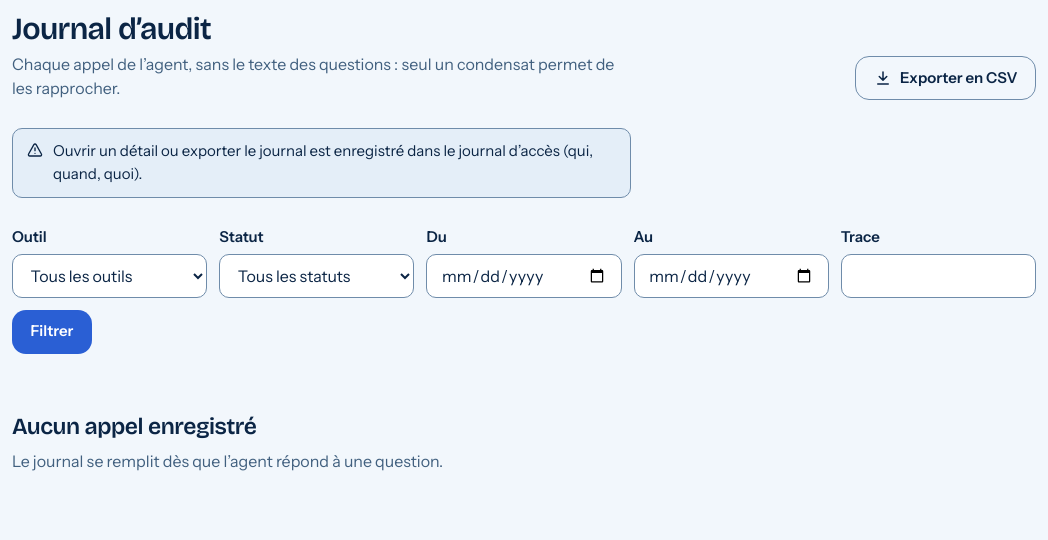
Journal d’audit › envoie les filtres choisis
The image size is (1048, 540).
Select "Bloqué" in the dropdown labelled "Statut": (317, 276) 219,254 -> 414,298
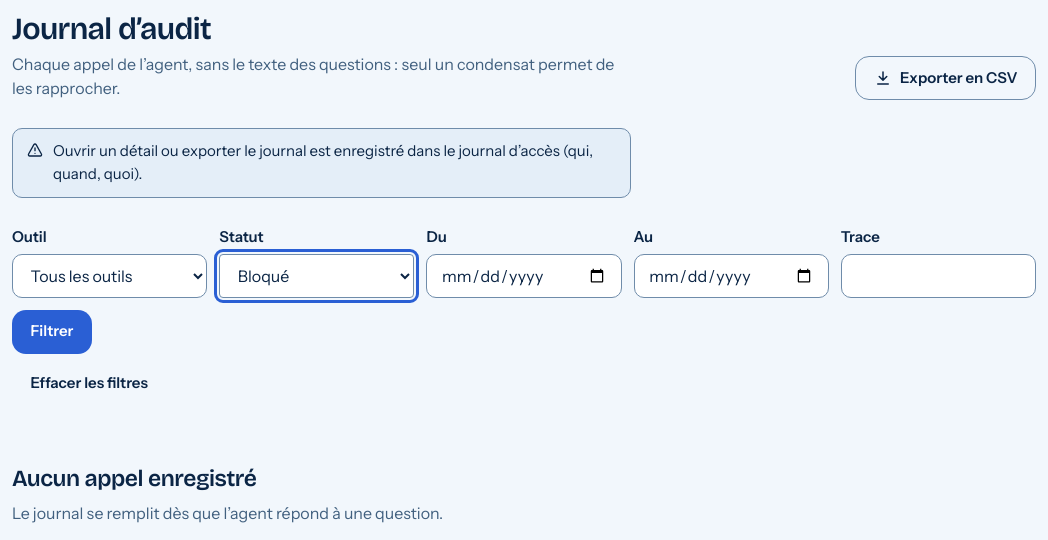
Click the button "Filtrer": (52, 332) 12,310 -> 92,354
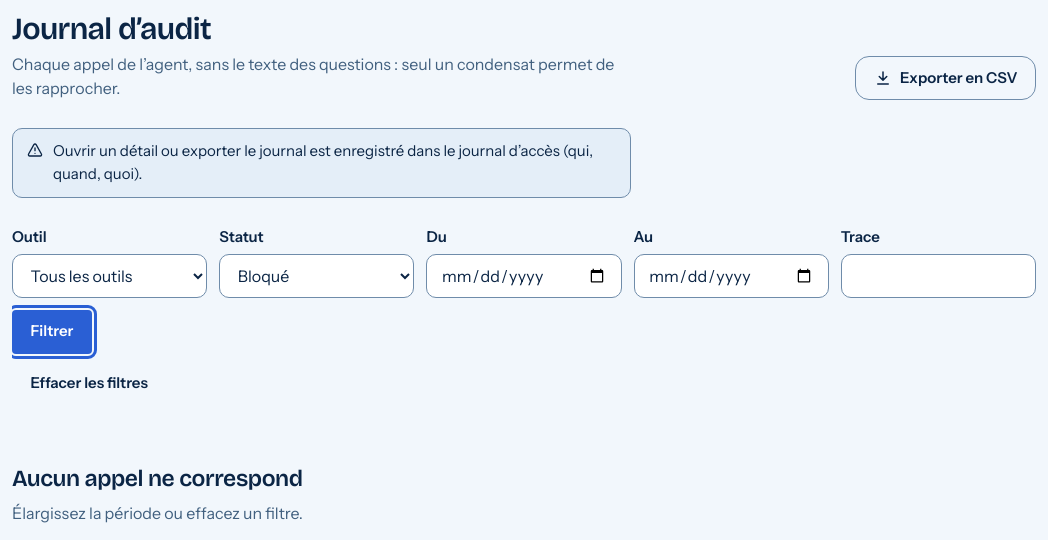
Now the heading "Aucun appel ne correspond" is shown, box 12,466 -> 303,491
